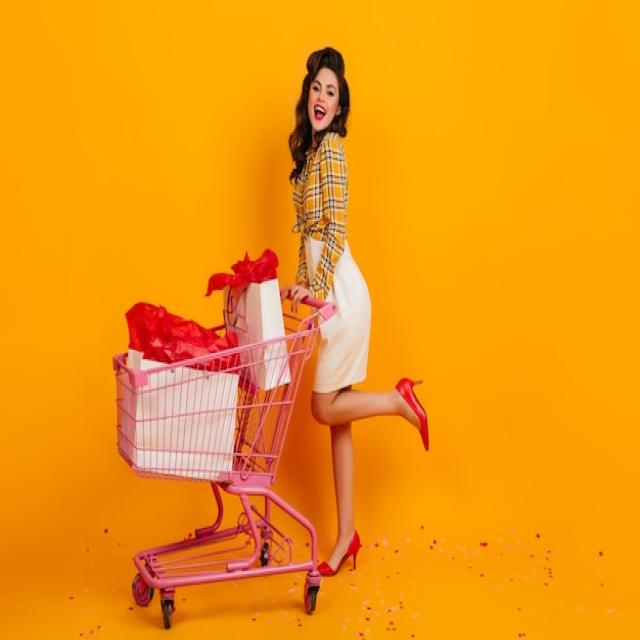Person: (281, 47, 428, 575)
